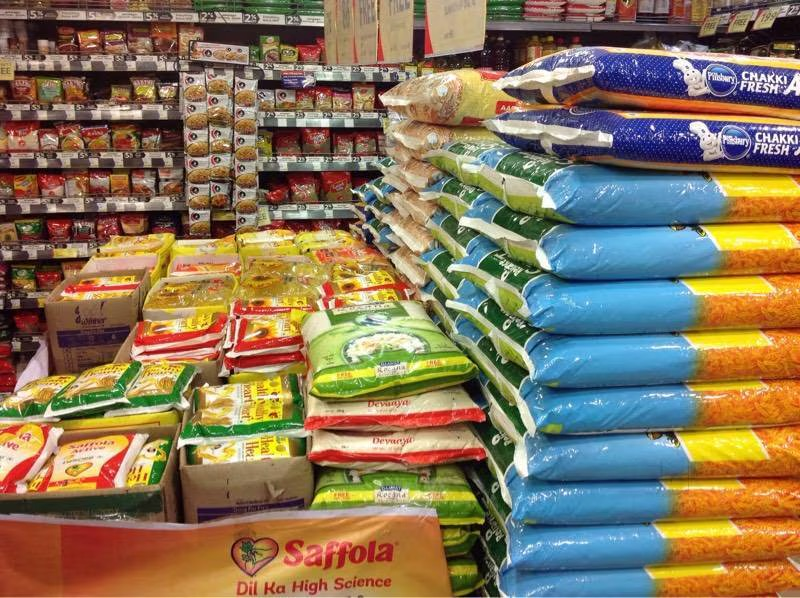saffola: (0, 423, 62, 492)
